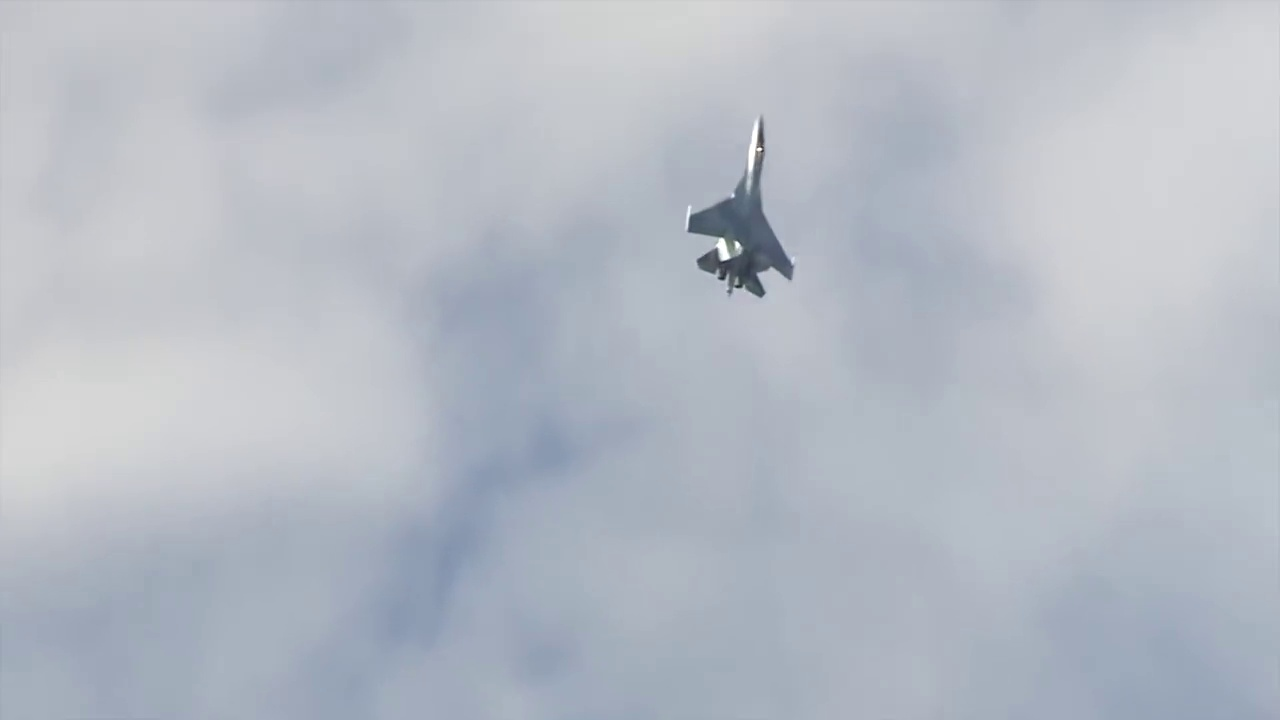Su35: (678, 102, 802, 305)
